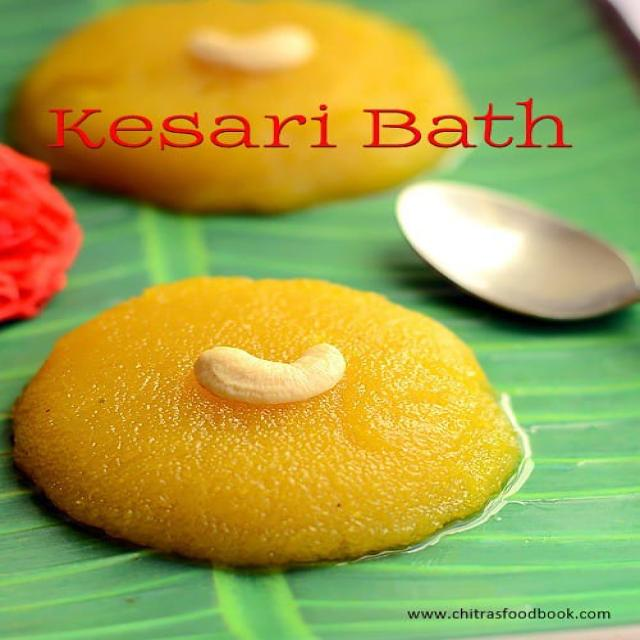kesari bath: (0, 258, 538, 580), (5, 0, 489, 225)
